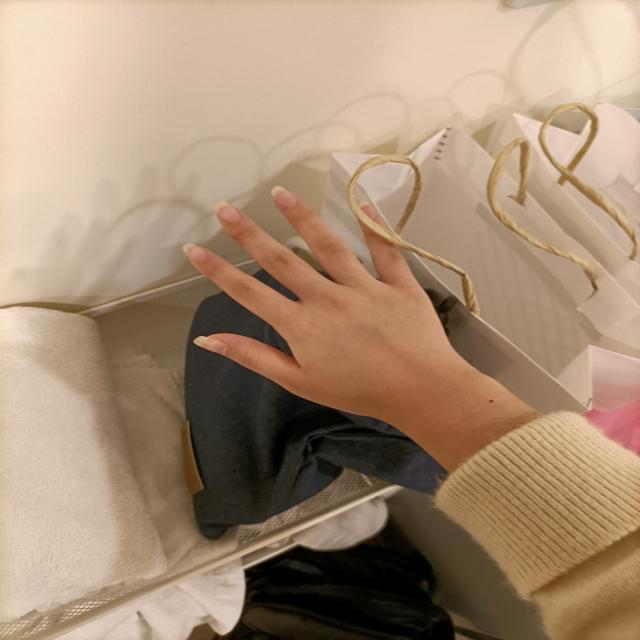no-gloves: (183, 186, 472, 416)
